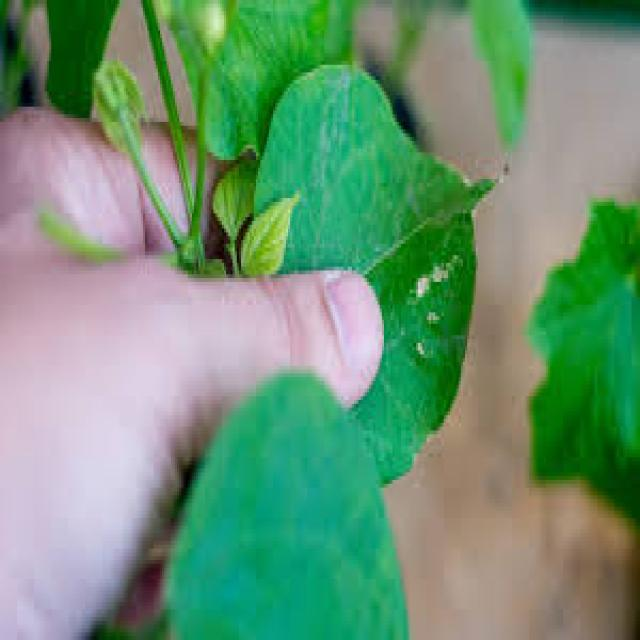Pestalotiopsis: (394, 218, 466, 394)
